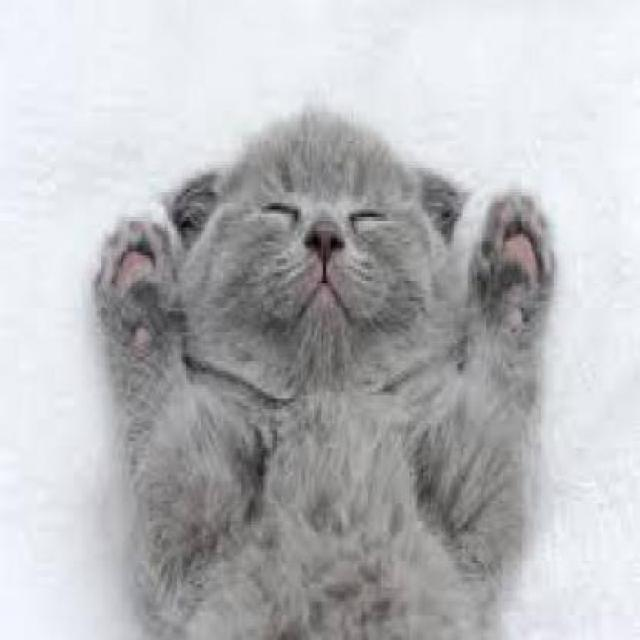cat: (88, 103, 562, 631)
